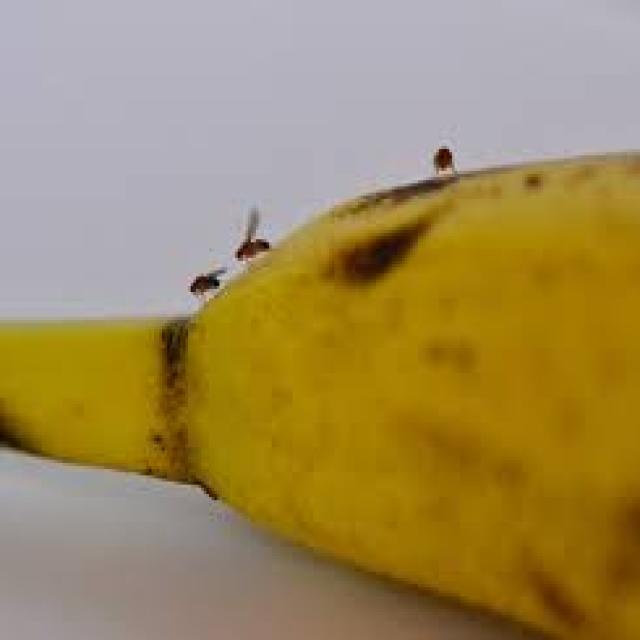fruit fly: (222, 199, 272, 264), (175, 258, 233, 301), (416, 131, 462, 180)
